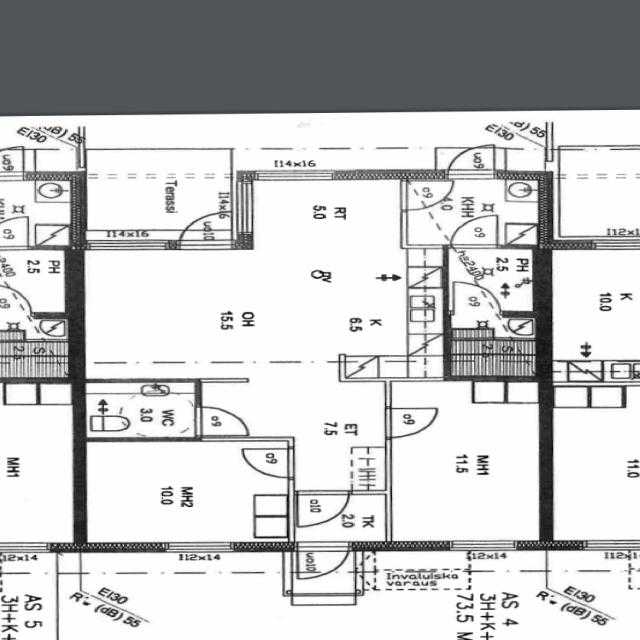door: (178, 206, 232, 250), (296, 542, 348, 586), (446, 140, 494, 181), (297, 491, 348, 526), (239, 448, 294, 478), (194, 406, 248, 436), (452, 282, 498, 317), (384, 408, 437, 438), (449, 215, 496, 248), (401, 182, 452, 210)
